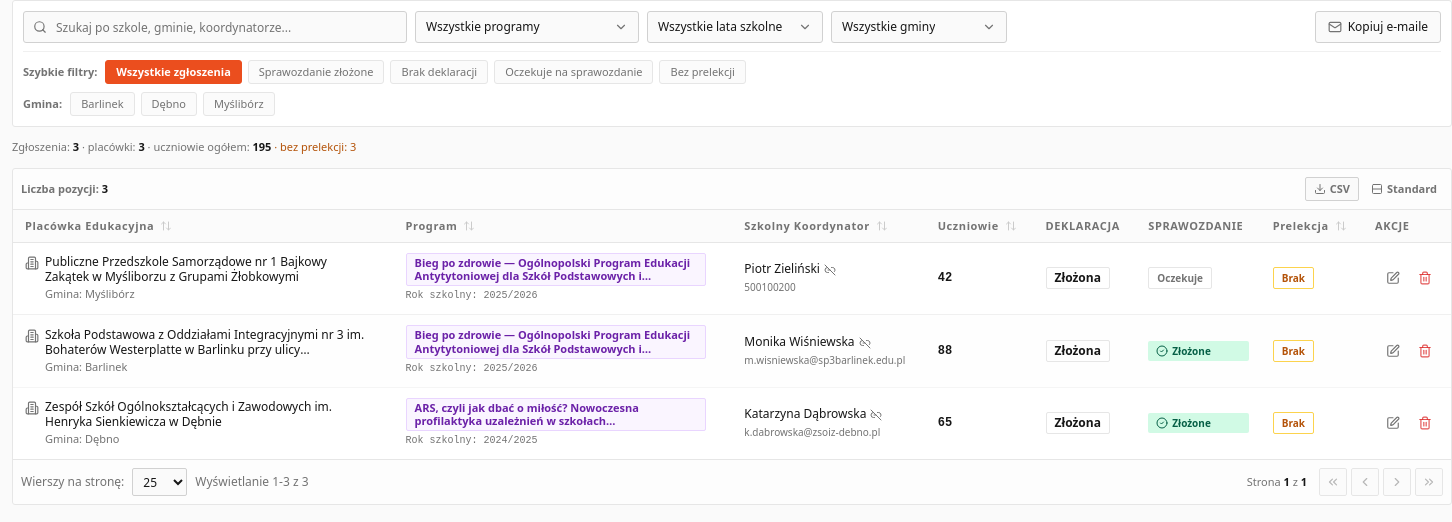
Test: Programy i udziały: przypadki brzegowe › Filter Bar Token & Styling Consistency vs Design System › Combines multiple filters in SchoolParticipationsTab: status + municipality + year
What coordinates should you click on to do the following:
click the button "Sprawozdanie złożone"
I would click on:
 (316, 72)
Its box is [248,60,384,84].
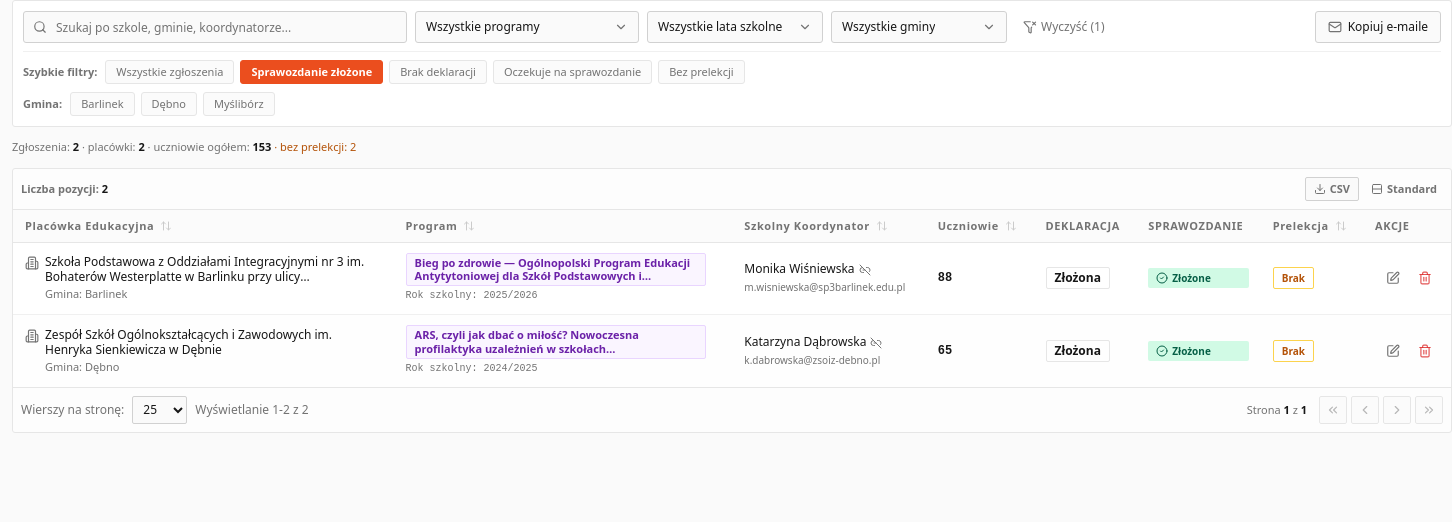
expect the text "Szkoła Podstawowa z Oddziałami Integracyjnymi nr 3 im. Bohaterów Westerplatte w Barlinku przy ulicy Kombatantów" is shown: met, box [45,253,364,300]
expect the text "Publiczne Przedszkole Samorządowe nr 1 Bajkowy Zakątek w Myśliborzu z Grupami Żłobkowymi" is gone: met
What coordinates should you click on to do the following:
click the button "Dębno"
I would click on:
 (169, 104)
Its box is [141,92,197,116].
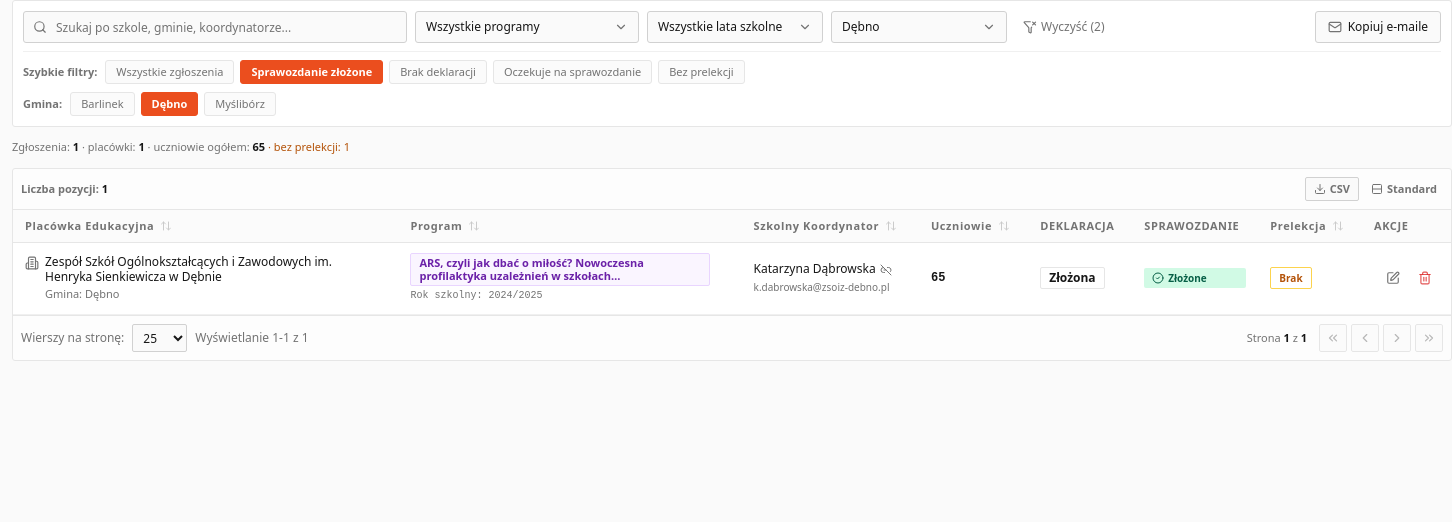
expect the text "Zespół Szkół Ogólnokształcących i Zawodowych im. Henryka Sienkiewicza w Dębnie" is shown: met, box [45,254,365,284]
expect the text "Szkoła Podstawowa z Oddziałami Integracyjnymi nr 3 im. Bohaterów Westerplatte w Barlinku przy ulicy Kombatantów" is gone: met
What coordinates should you click on to do the following:
click the button "Wyczyść (2)"
I would click on:
 (1064, 27)
Its box is [1015,11,1112,43].
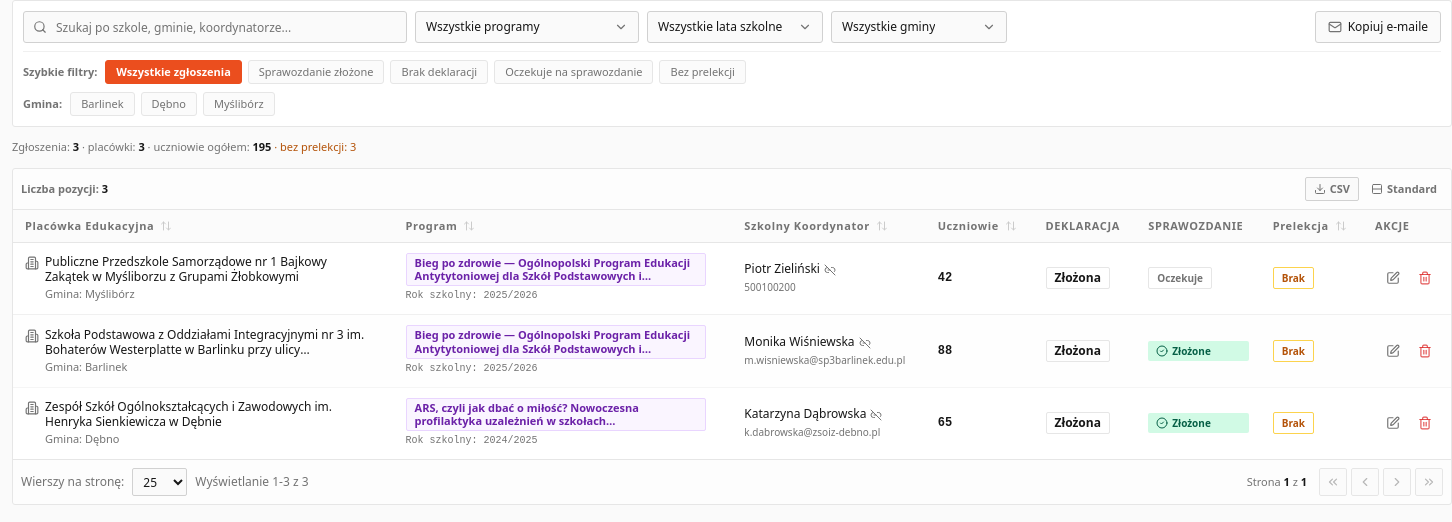
expect the text "Zespół Szkół Ogólnokształcących i Zawodowych im. Henryka Sienkiewicza w Dębnie" is shown: met, box [45,399,365,429]
expect the text "Szkoła Podstawowa z Oddziałami Integracyjnymi nr 3 im. Bohaterów Westerplatte w Barlinku przy ulicy Kombatantów" is shown: met, box [45,326,364,373]
expect the text "Publiczne Przedszkole Samorządowe nr 1 Bajkowy Zakątek w Myśliborzu z Grupami Żłobkowymi" is shown: met, box [45,253,327,285]
